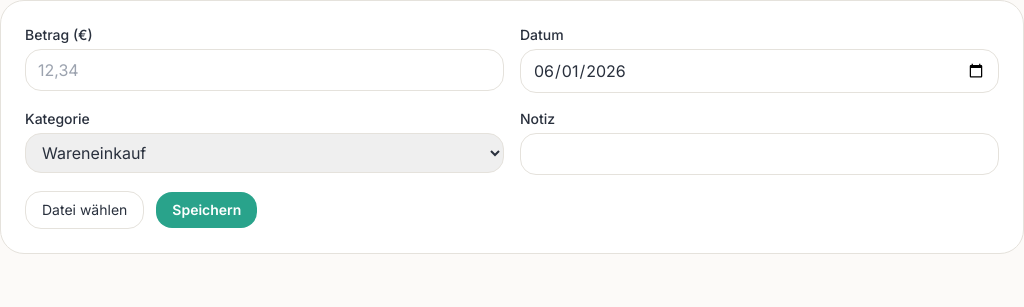
Test: ReceiptForm › blocks saving when the amount is empty/invalid
This screenshot has width=1024, height=307.
Click the button "Speichern": (207, 210) [156, 192, 257, 228]
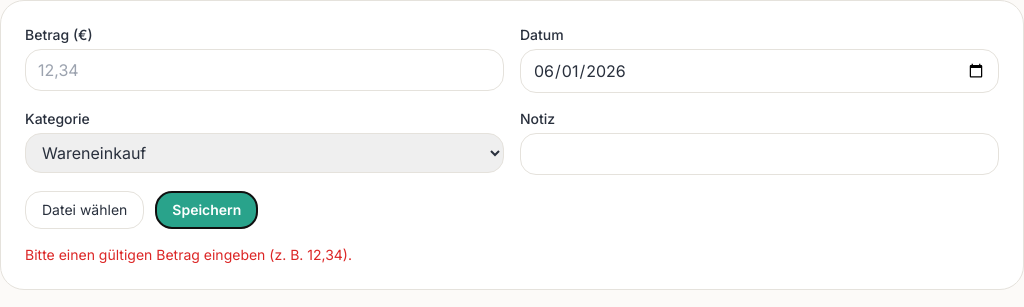
Now the text "Bitte einen gültigen Betrag eingeben (z. B. 12,34)." is shown, box [25, 246, 352, 263]
